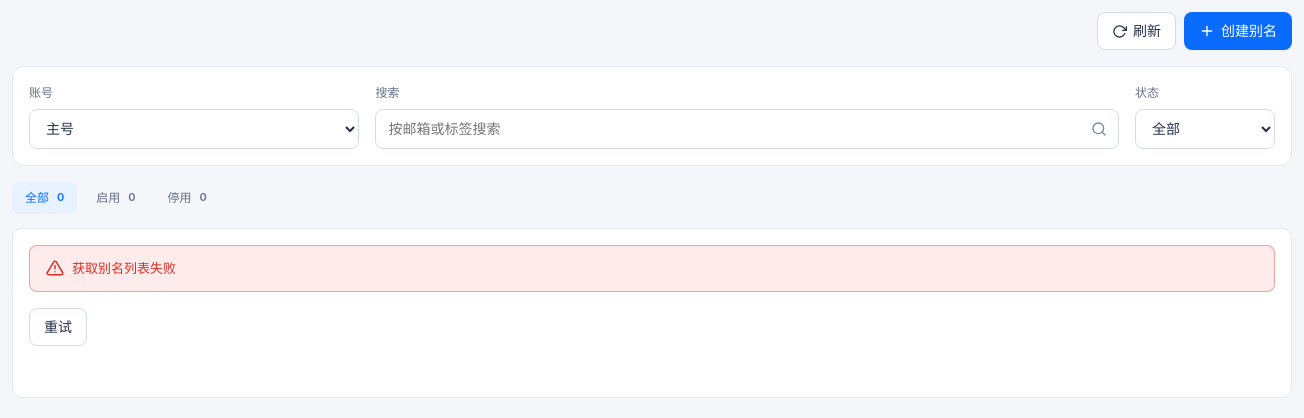
Scenario: AliasesPage › loading/empty/error/retry 状态
Step 1. Click the button "重试" → (58, 327), box [29,308,87,346]
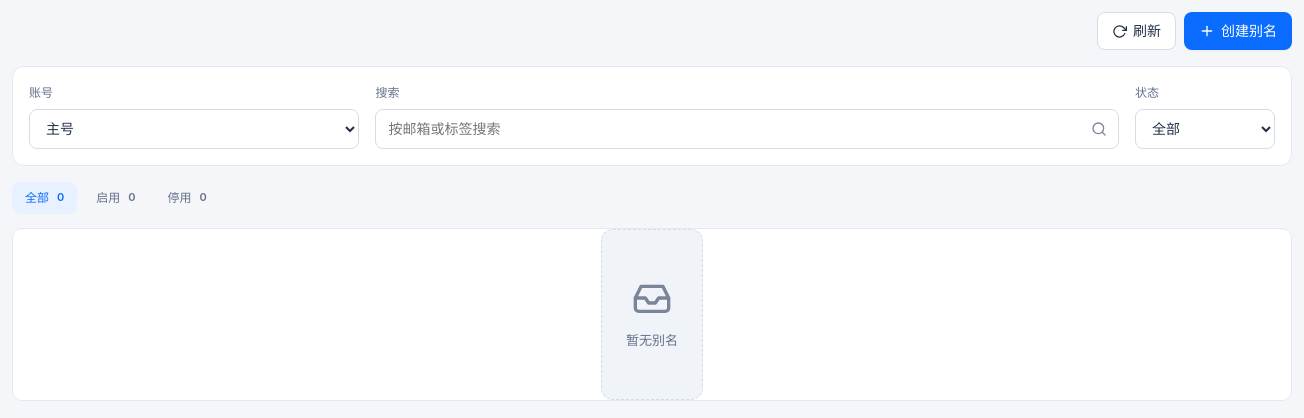
Result: the text "暂无别名" is shown at [601,229,703,400]
